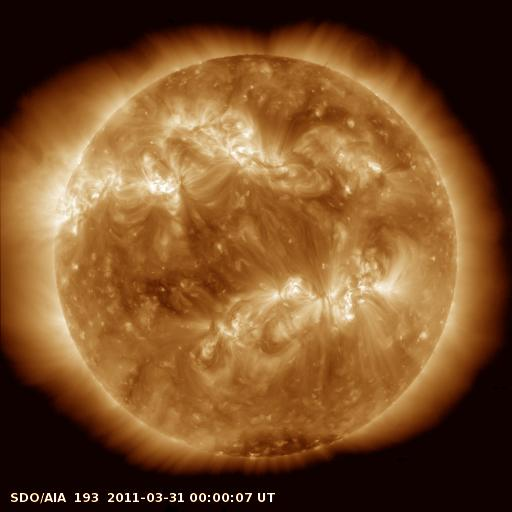coronal_hole: (218, 423, 343, 467), (140, 271, 196, 315)
